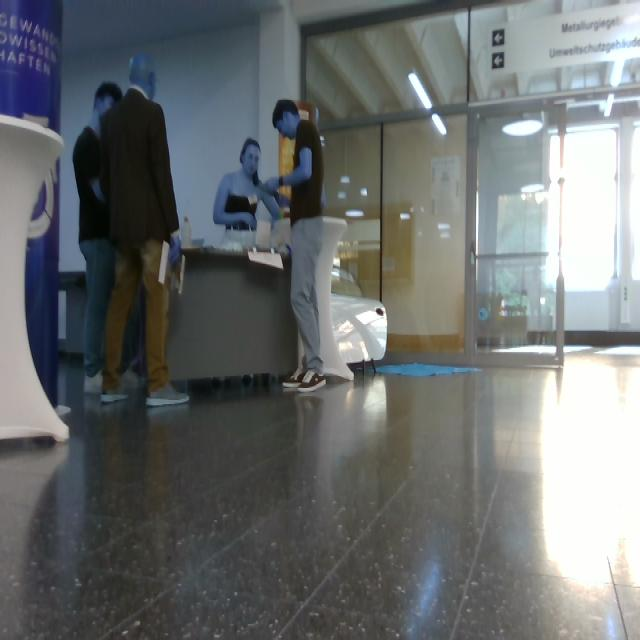desk: (168, 249, 298, 380), (61, 274, 83, 361)
door: (307, 1, 640, 368)
light bulb: (410, 73, 431, 109), (434, 113, 446, 136)
person: (101, 56, 188, 410), (266, 101, 325, 392), (74, 82, 122, 393), (214, 138, 280, 256), (121, 322, 137, 392)
table: (1, 116, 69, 441), (316, 218, 353, 380)
tiled floor: (1, 348, 640, 640)
